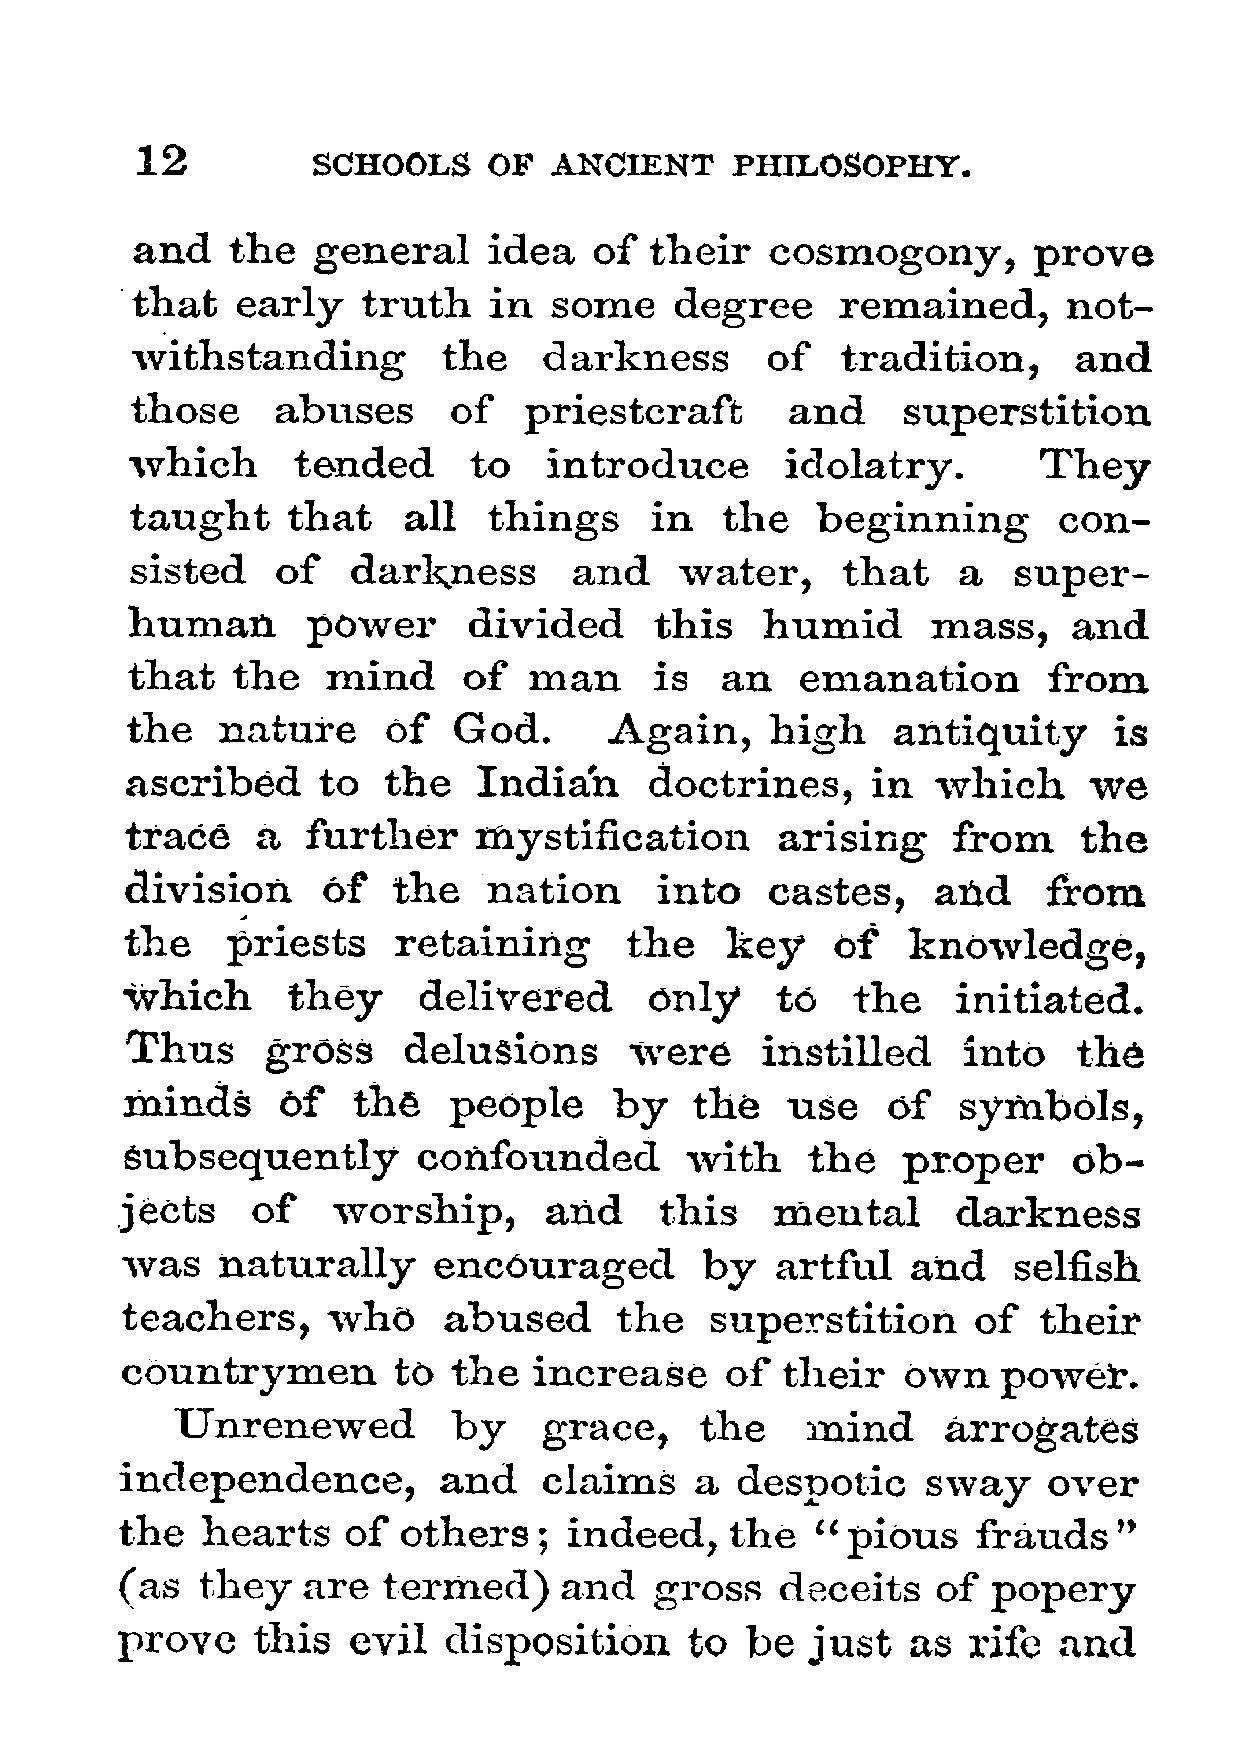content: (114, 221, 1155, 1667)
content_chapter: (306, 149, 972, 183)
content_pagenumber: (132, 136, 193, 181)
